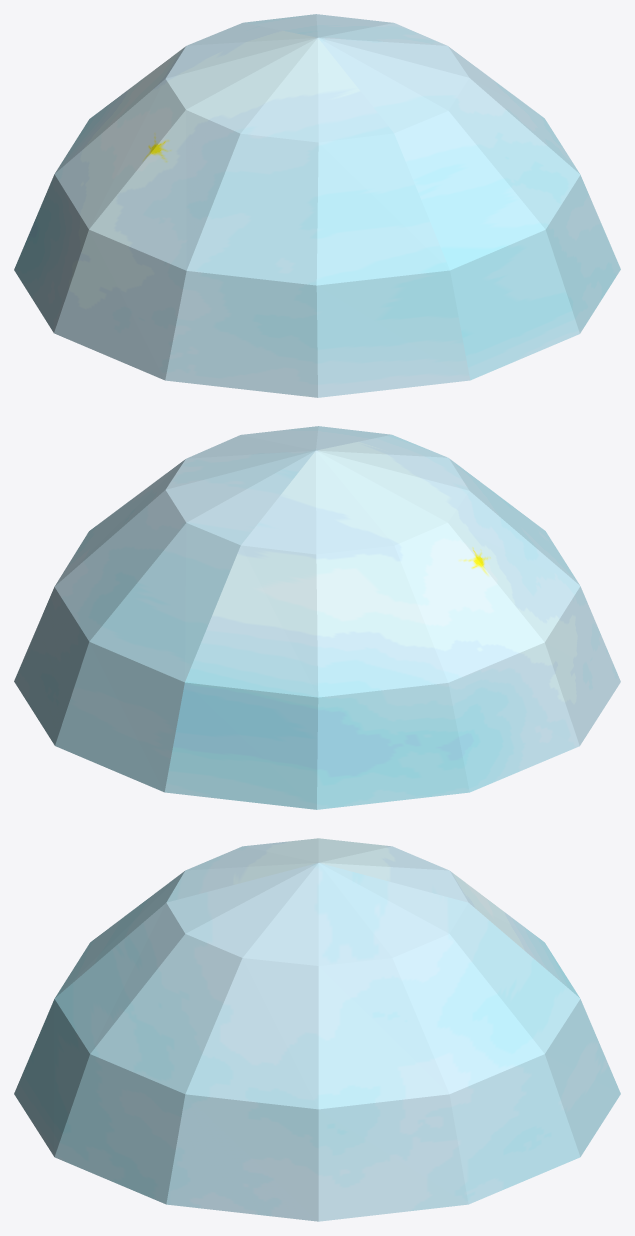
The model's file is BackDome.glb.
The picture shows the model from 3 angles, top to bottom: view 1: azimuth 30°, elevation 25°; view 2: azimuth 150°, elevation 25°; view 3: azimuth 270°, elevation 25°; orthographic projection.
Visible parts, largest first — view 1: BackDome; view 2: BackDome; view 3: BackDome.
Boxes of the visible parts, x1,y1,x2,y2 form: BackDome: [14, 14, 620, 397]; BackDome: [14, 426, 620, 809]; BackDome: [14, 838, 620, 1221].
Bounding box in the file's own units: 166 × 69.74 × 166.
Materials: 1 (1 with a texture image).
